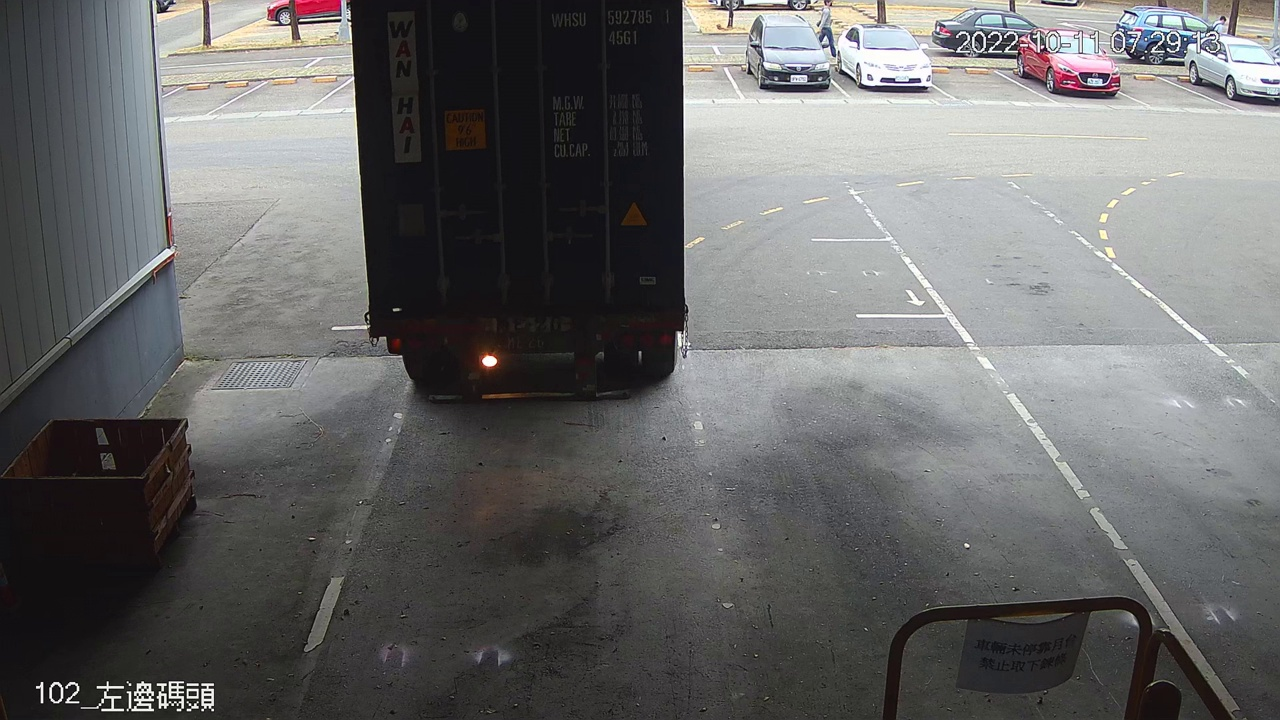container: (546, 3, 676, 51)
